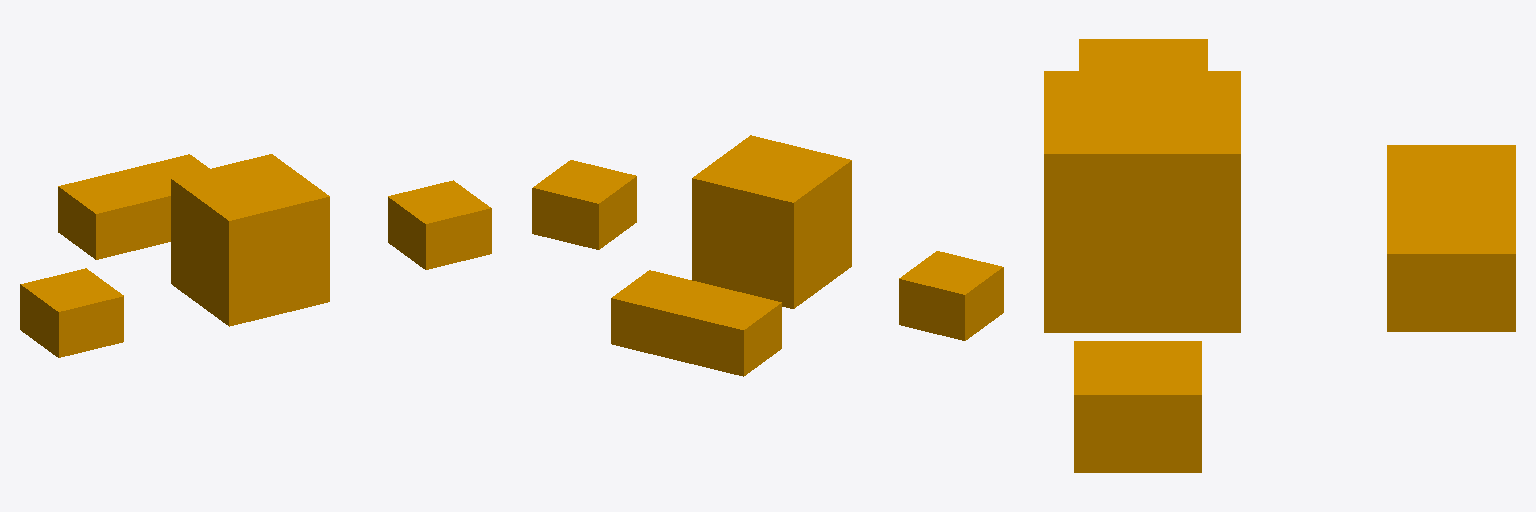
The robot description file, URDF, robot "cubeWorld":
<?xml version="1.0"?>
<robot name="cubeWorld">
  <link name="base_link">
    <visual>
      <origin xyz="0 0 0"/>
      <geometry>
        <mesh filename="package://hpp-rbprm-corba/meshes/cubeWorld.stl"/>
      </geometry>
    </visual>
    <collision>
      <origin xyz="0 0 0"/>
      <geometry>
        <mesh filename="package://hpp-rbprm-corba/meshes/cubeWorld.stl"/>
      </geometry>
    </collision>
  </link>
</robot>

--- What the picture shows (computed from the rendered views, not written in the file) ---
3 views of the same robot in one strip: view 1: azimuth 30°, elevation 25°; view 2: azimuth 150°, elevation 25°; view 3: azimuth 270°, elevation 25° (orthographic).
Model cubeWorld with 1 links and 0 joints (none), rooted at base_link, posed every joint at zero.
Visible links, largest first — view 1: base_link; view 2: base_link; view 3: base_link.
Boxes of the visible links, x1,y1,x2,y2 form: base_link: (20, 154, 491, 357); base_link: (532, 135, 1003, 376); base_link: (1044, 39, 1515, 472).
Size in the robot's own frame: 19.63 by 10.99 by 4.59 metres.
1 mesh visuals loaded from 1 distinct referenced files (1 binary STL).